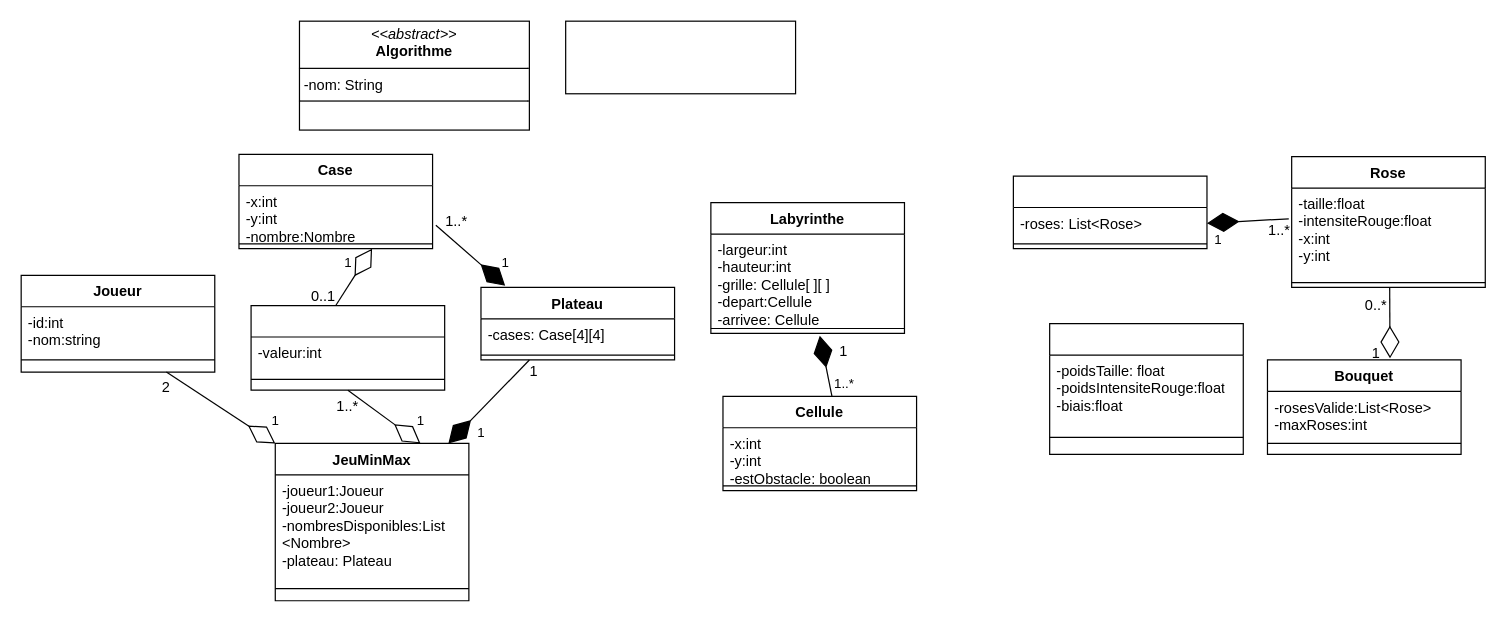
Image size: 1506x622. Some labels were removed from this diagram. The box of each missing label's shape, as (x1, y1, x2, y2) in pixels:
<<abstract>> Environnement: (564, 20, 796, 94)
Nombre: (250, 304, 445, 390)
ParterreRose: (1012, 175, 1207, 249)
Perceptron: (1048, 322, 1243, 454)
